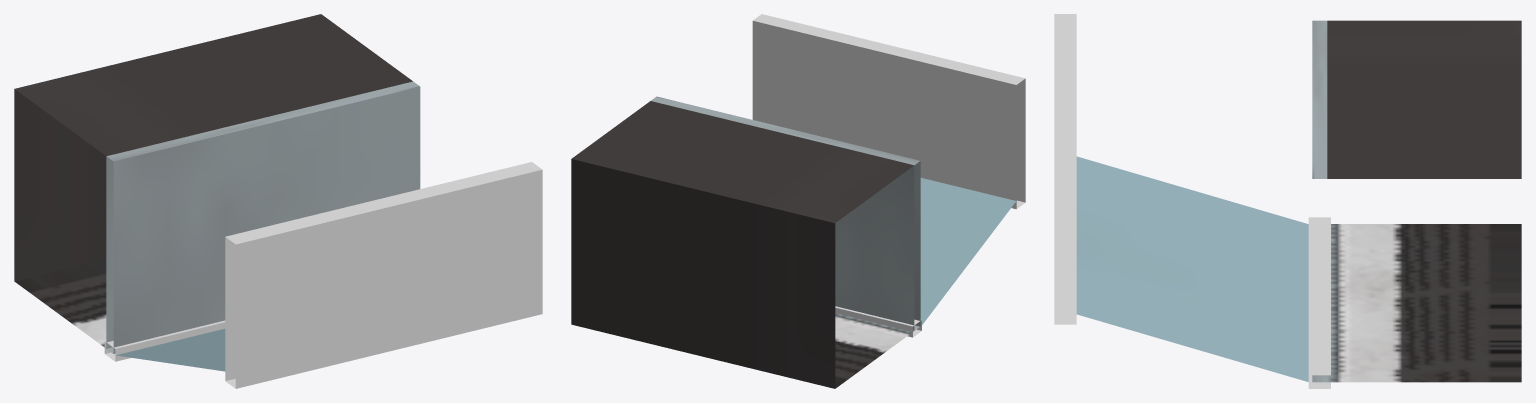
The model's file is pz_g020_location_shop_generic_01_white_display_counter_part1.obj.
The picture shows the model from 3 angles, left to right: view 1: azimuth 30°, elevation 25°; view 2: azimuth 150°, elevation 25°; view 3: azimuth 270°, elevation 25°; orthographic projection. The views are drawn at different scales.
Parts seen in each view (by area): view 1: display_canopy_top, display_floor_top, display_base_front, display_base_bottom, display_base_rear, display_canopy_front, sloped_front_glass, display_floor_front, display_canopy_bottom, display_floor_bottom, lower_white_rail_top; view 2: display_base_bottom, display_canopy_bottom, display_base_front, display_floor_bottom, sloped_front_glass, display_base_rear, display_canopy_front, display_floor_front, display_canopy_top, display_floor_top, lower_white_rail_bottom; view 3: sloped_front_glass, display_base_front, display_base_rear, lower_white_rail_front, display_canopy_front, display_canopy_rear, display_floor_front.
Part boxes in pixels (x1,y1,x2,y2): display_canopy_top: [235, 169, 542, 388]; display_floor_top: [113, 86, 420, 353]; display_base_front: [14, 14, 412, 156]; display_base_bottom: [14, 89, 106, 281]; display_base_rear: [14, 259, 106, 348]; display_canopy_front: [225, 162, 541, 244]; sloped_front_glass: [116, 328, 225, 371]; display_floor_front: [107, 81, 419, 161]; display_canopy_bottom: [225, 237, 235, 380]; display_floor_bottom: [106, 156, 113, 348]; lower_white_rail_top: [115, 322, 225, 361]; display_base_bottom: [571, 159, 835, 388]; display_canopy_bottom: [752, 21, 1016, 209]; display_base_front: [571, 101, 913, 222]; display_floor_bottom: [835, 166, 914, 330]; sloped_front_glass: [920, 178, 1016, 324]; display_base_rear: [835, 313, 913, 388]; display_canopy_front: [753, 14, 1025, 84]; display_floor_front: [651, 96, 919, 165]; display_canopy_top: [1016, 78, 1025, 202]; display_floor_top: [914, 161, 920, 326]; lower_white_rail_bottom: [835, 307, 912, 337]; sloped_front_glass: [1076, 156, 1308, 381]; display_base_front: [1327, 20, 1521, 178]; display_base_rear: [1327, 224, 1521, 382]; lower_white_rail_front: [1308, 217, 1330, 375]; display_canopy_front: [1054, 14, 1076, 171]; display_canopy_rear: [1054, 172, 1076, 324]; display_floor_front: [1312, 20, 1327, 178].
Bounding box in the file's own units: 1 × 0.64 × 1.25.
Materials: 1 (1 with a texture image).
